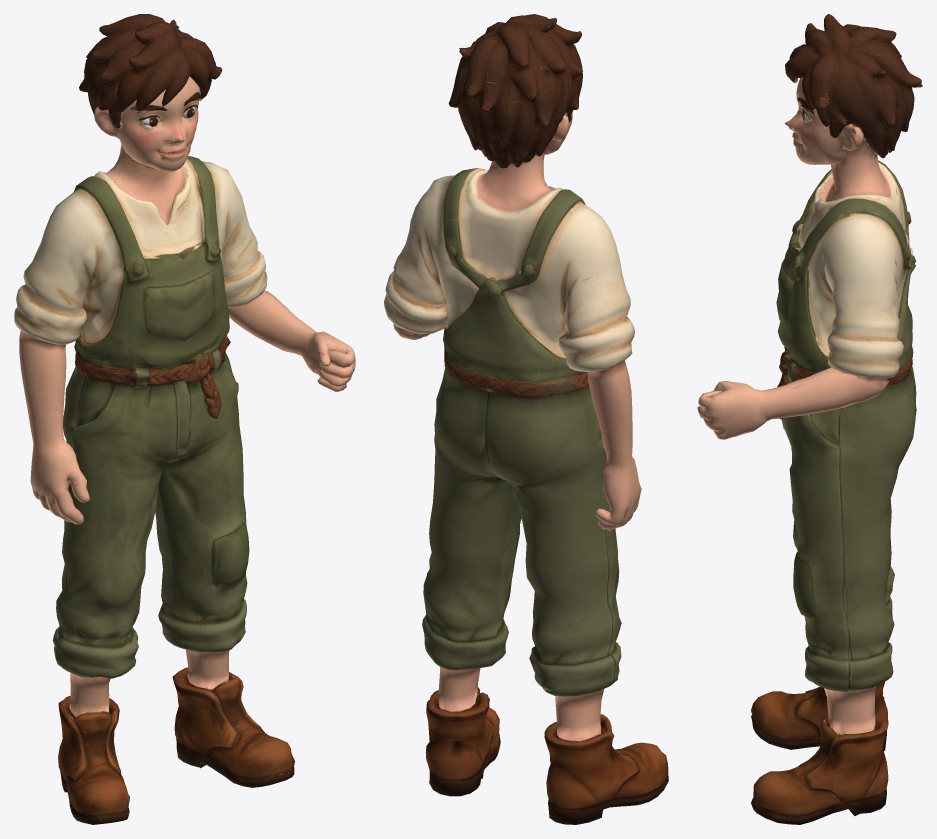
The model's file is angler.glb.
The picture shows the model from 3 angles, left to right: view 1: azimuth 30°, elevation 25°; view 2: azimuth 150°, elevation 25°; view 3: azimuth 270°, elevation 25°; orthographic projection. The views are drawn at different scales.
Size of the model in its own units: 0.3379 by 0.9507 by 0.2588.
1 material, 1 textured.
